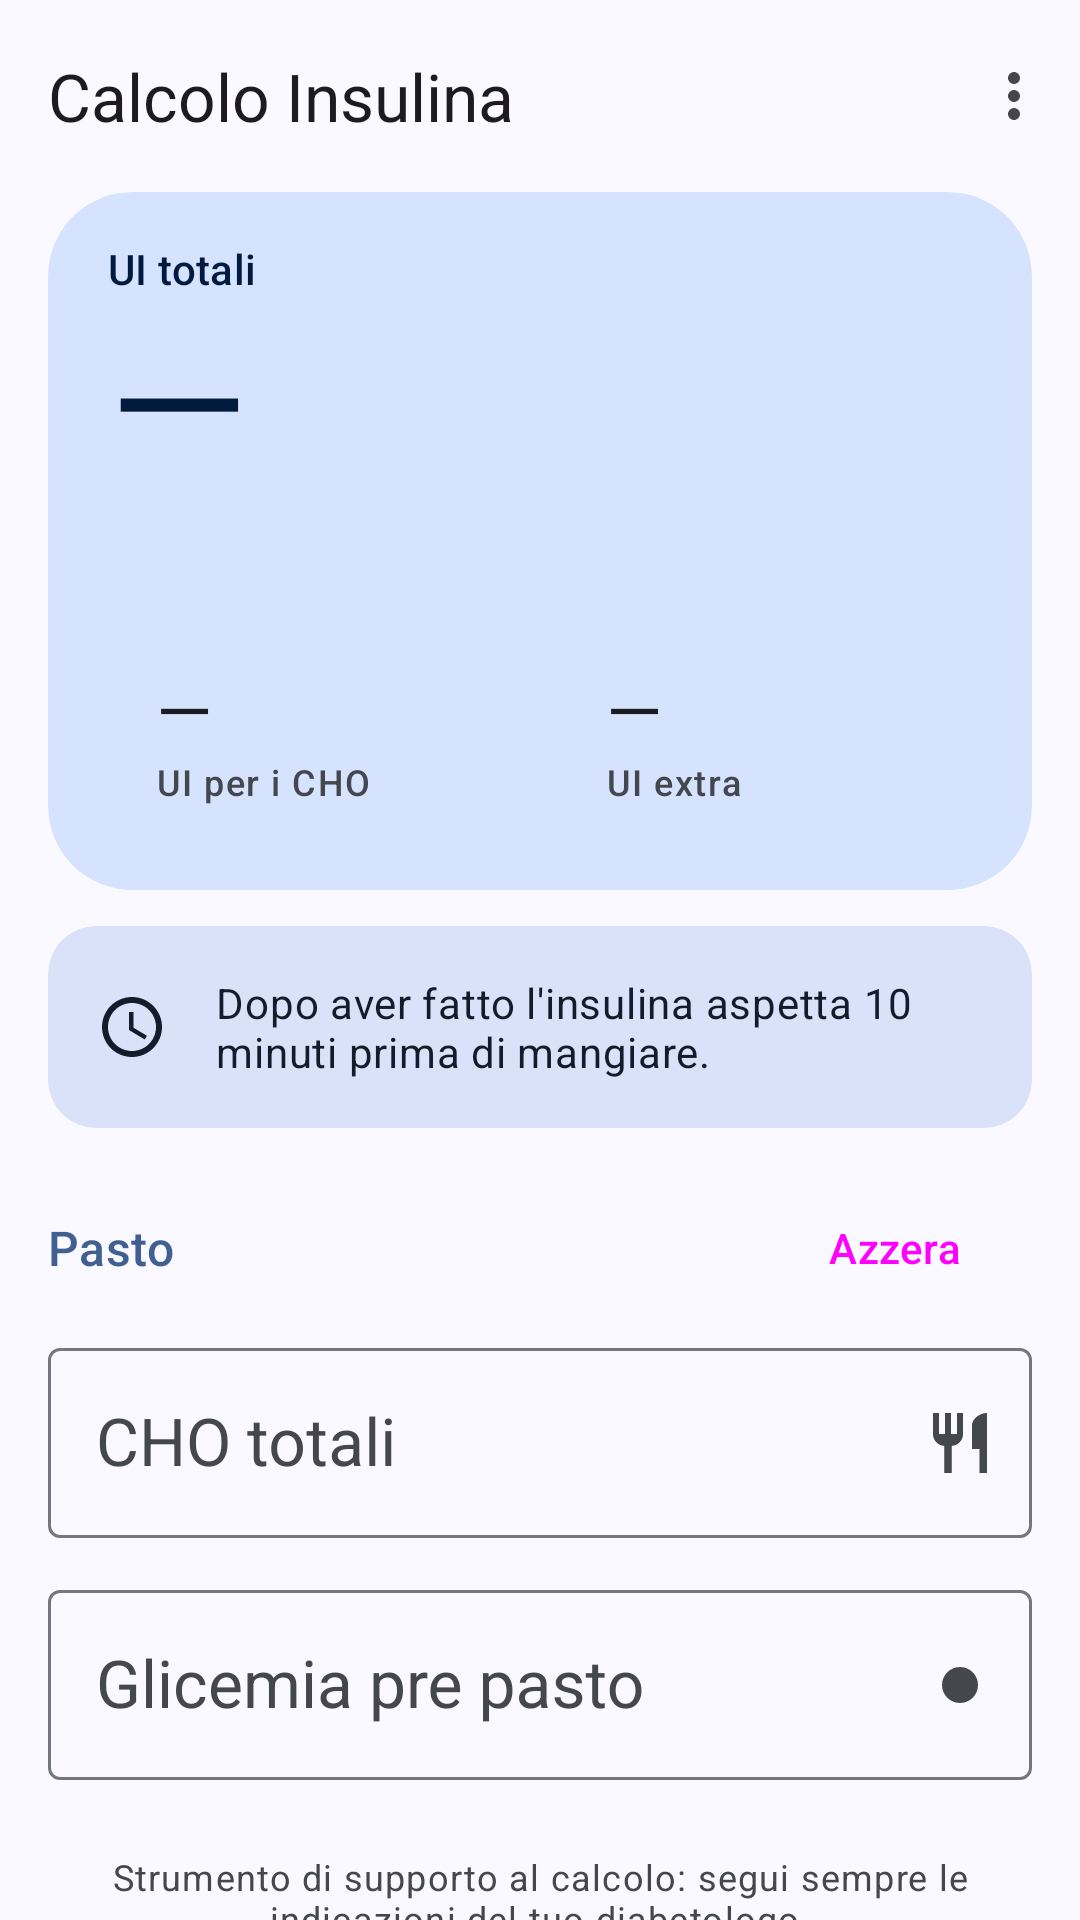

Screen size 1080 × 1920. Icon name, then its box in pixels as rect(x1, y1, x2, y2):
orologio: rect(102, 997, 162, 1057)
